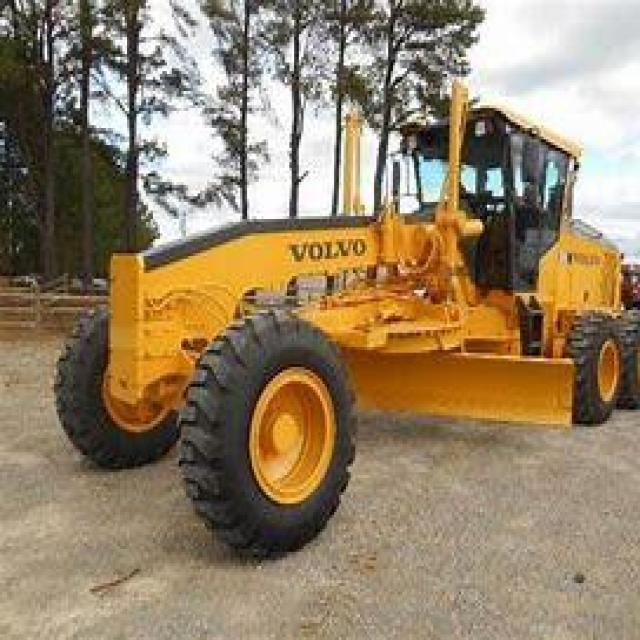buldozerpayloadergrader: (54, 57, 638, 543)
